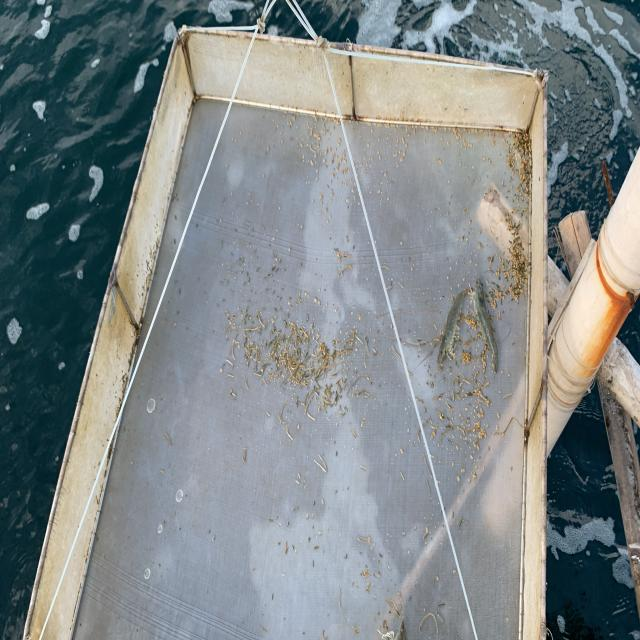Shrimp feeds: (314, 132, 321, 140), (399, 156, 404, 162), (310, 160, 314, 166), (402, 136, 405, 144), (400, 448, 404, 454), (361, 466, 366, 470), (319, 194, 323, 199), (329, 192, 334, 196), (334, 307, 338, 312), (298, 472, 301, 478), (296, 480, 300, 484), (318, 531, 322, 535), (306, 514, 309, 519), (314, 297, 317, 302), (297, 424, 300, 429), (346, 198, 349, 202), (325, 206, 327, 212), (377, 190, 381, 193), (300, 143, 303, 147), (220, 368, 222, 372)
